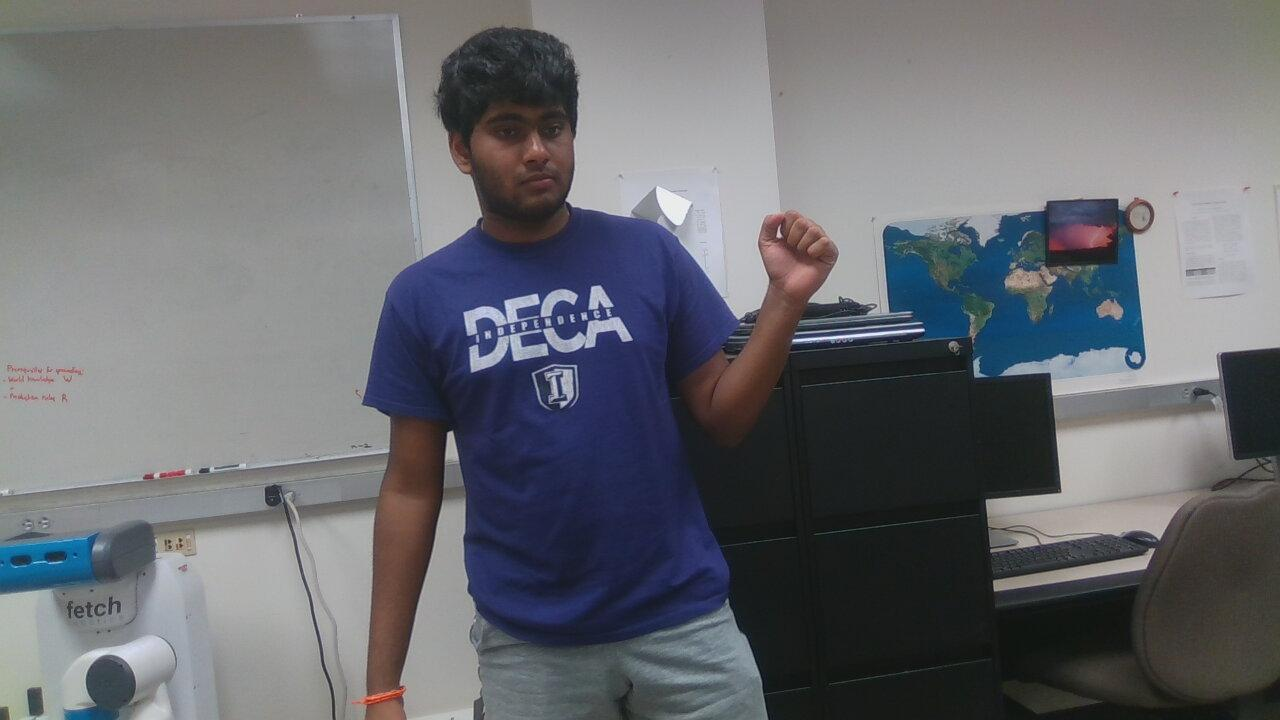fist: (746, 202, 847, 313)
